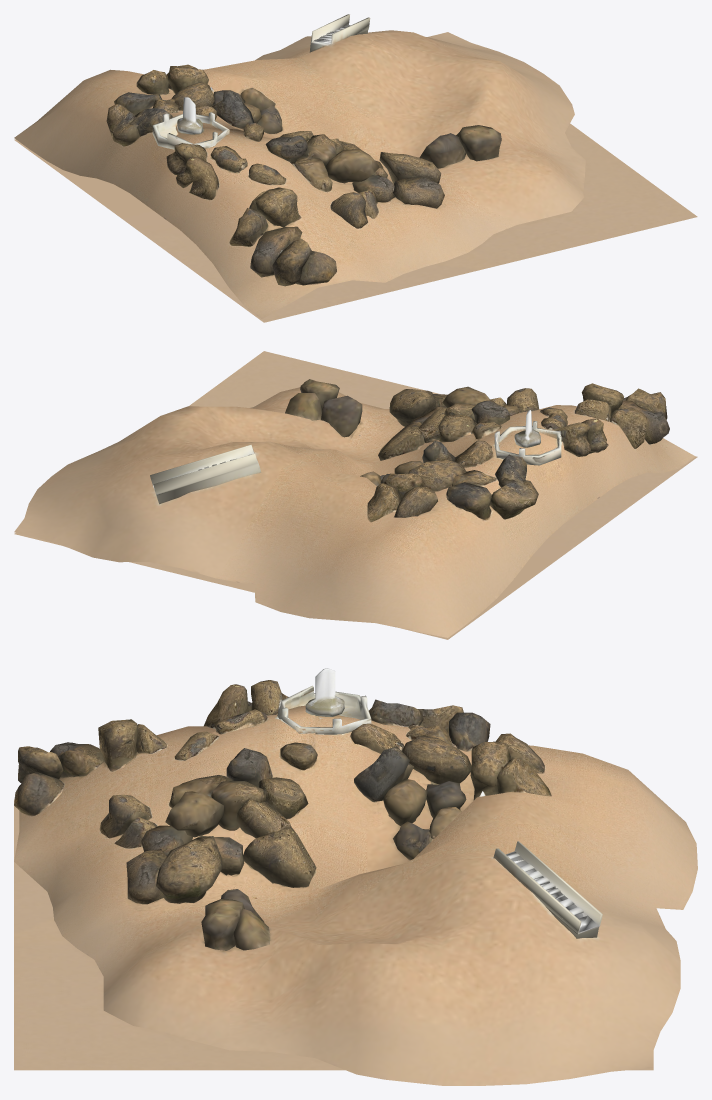
The model's file is rocky+hill+3d+model.fbx.
3 renders of one model, top to bottom at view 1: azimuth 30°, elevation 25°; view 2: azimuth 150°, elevation 25°; view 3: azimuth 270°, elevation 25°, orthographic. The views are drawn at different scales.
Visible parts, largest first — view 1: meshes[0]; view 2: meshes[0]; view 3: meshes[0].
Boxes of the visible parts, x1,y1,x2,y2 form: meshes[0]: [14, 14, 697, 322]; meshes[0]: [14, 351, 697, 639]; meshes[0]: [14, 668, 697, 1085].
Size of the model in its own units: 0.998 by 0.2559 by 0.998.
Materials: 1 (1 with a texture image).
